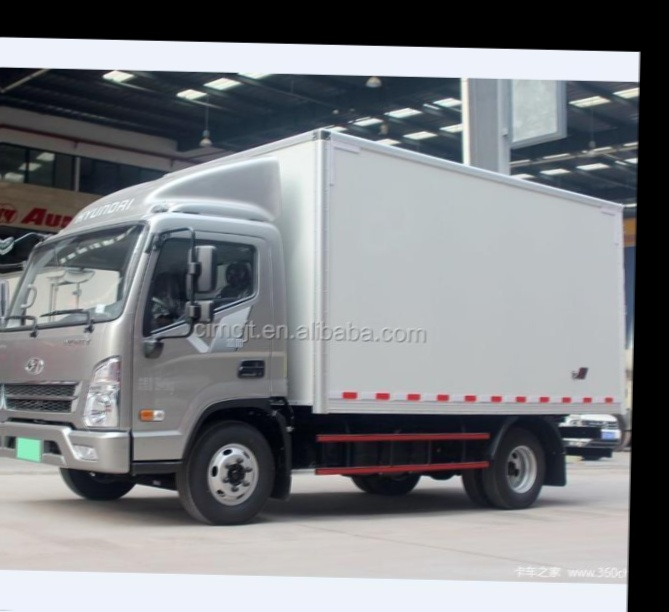truck: (0, 110, 636, 536)
